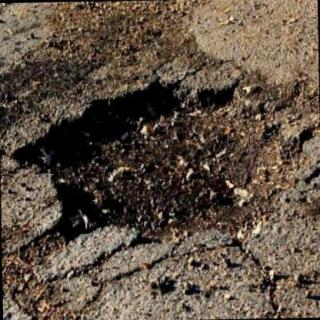pothole: (13, 84, 287, 262)
